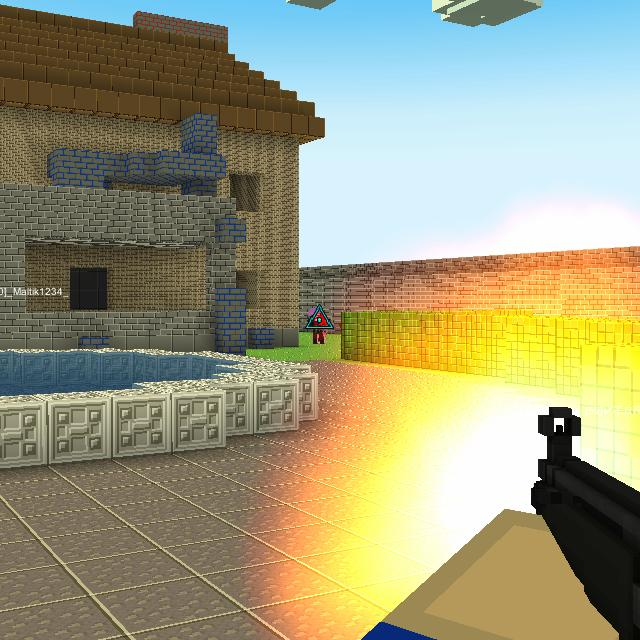enemy: (307, 305, 327, 345)
